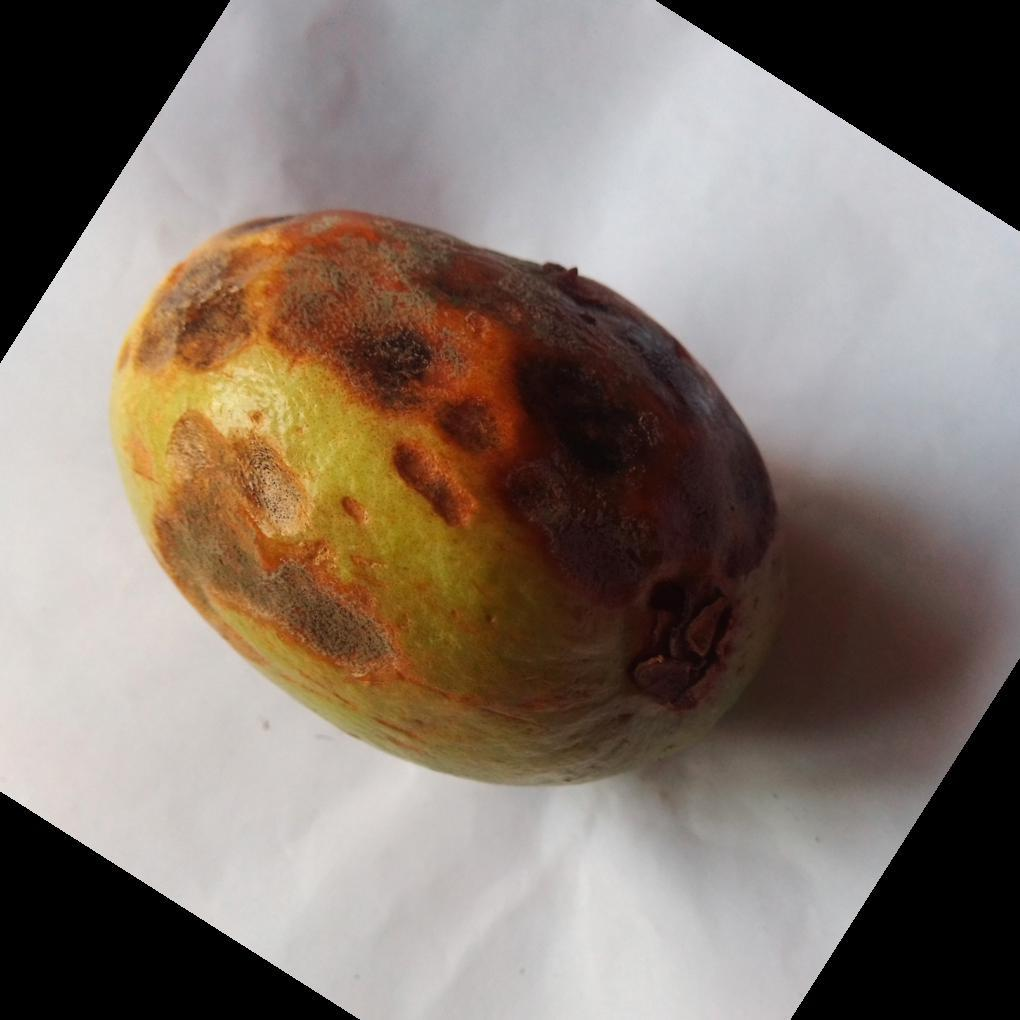FreshOrange: (108, 209, 794, 791)
